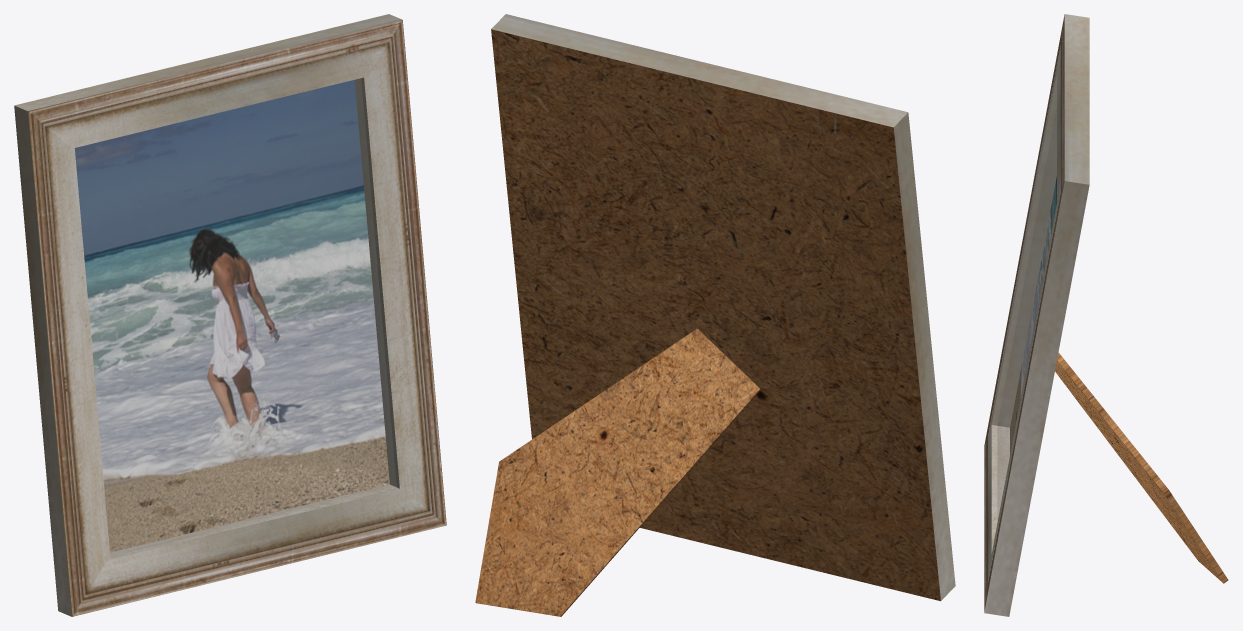
File: Photo 3.FBX
The picture shows the model from 3 angles, left to right: view 1: azimuth 30°, elevation 25°; view 2: azimuth 150°, elevation 25°; view 3: azimuth 270°, elevation 25°; orthographic projection. The views are drawn at different scales.
Parts seen in each view (by area): view 1: Photo 3; view 2: Photo 3; view 3: Photo 3.
Boxes of the visible parts, left/top/right/bottom form: Photo 3: left=14, top=14, right=446, bottom=616; Photo 3: left=475, top=14, right=955, bottom=616; Photo 3: left=984, top=14, right=1228, bottom=616.
Bounding box in the file's own units: 21.15 × 25.75 × 13.09.
2 materials, 1 textured.
